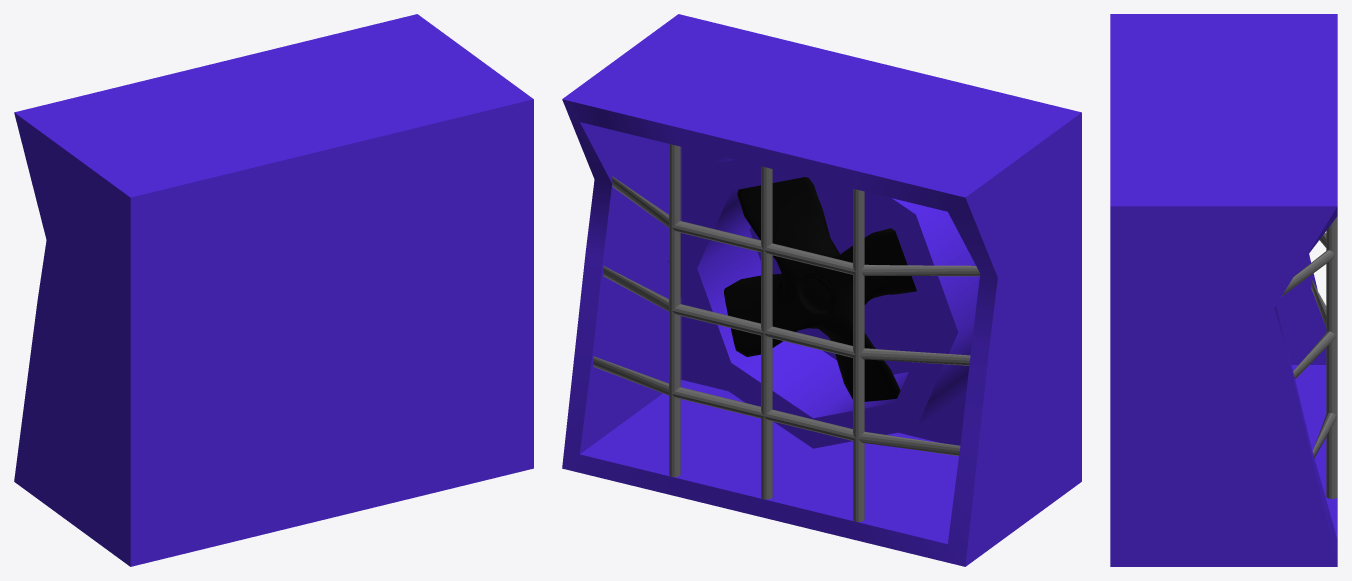
The model's file is vent-A-1.fbx.
3 renders of one model, left to right at view 1: azimuth 30°, elevation 25°; view 2: azimuth 150°, elevation 25°; view 3: azimuth 270°, elevation 25°, orthographic. The views are drawn at different scales.
Visible parts, largest first — view 1: vent-A-1-ex; view 2: vent-A-1-ex; view 3: vent-A-1-ex.
Boxes of the visible parts, left/top/right/bottom form: vent-A-1-ex: left=14, top=14, right=533, bottom=566; vent-A-1-ex: left=562, top=14, right=1081, bottom=566; vent-A-1-ex: left=1110, top=14, right=1337, bottom=566.
Size of the model in its own units: 0.8 by 0.7 by 0.4.
